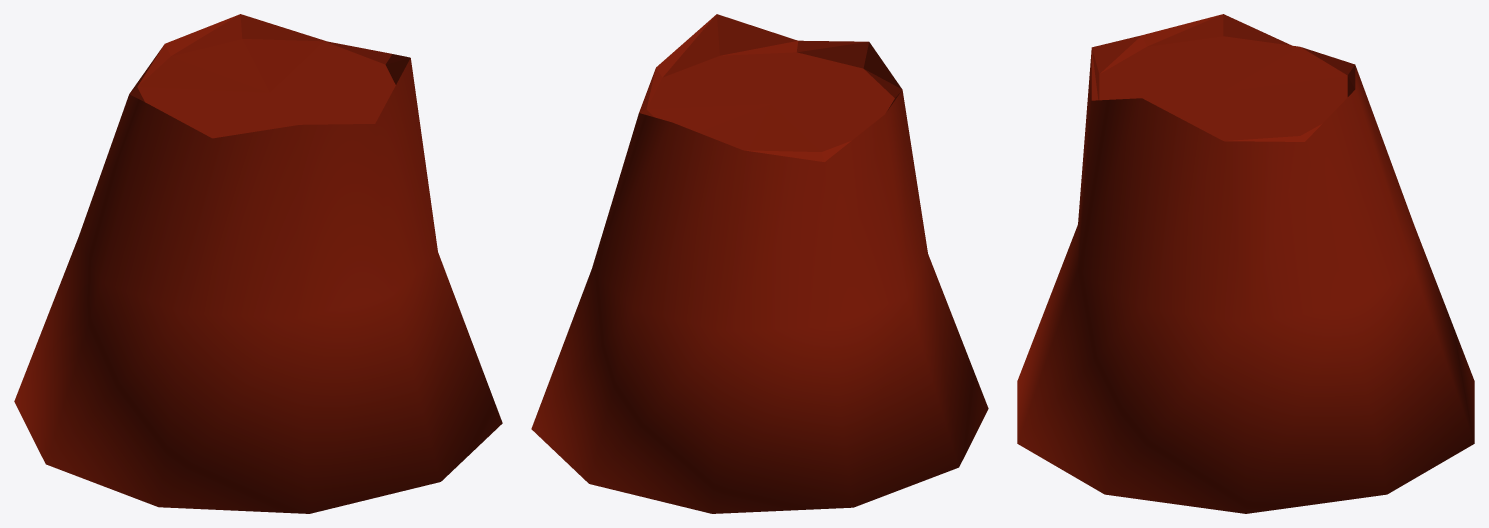
Rendered from 3D_ENV_TREETRUNK.FBX.
3 renders of one model, left to right at view 1: azimuth 30°, elevation 25°; view 2: azimuth 150°, elevation 25°; view 3: azimuth 270°, elevation 25°, orthographic. The views are drawn at different scales.
Parts seen in each view (by area): view 1: Tree1; view 2: Tree1; view 3: Tree1.
Boxes of the visible parts, x1,y1,x2,y2 form: Tree1: (14, 14, 502, 513); Tree1: (531, 14, 988, 513); Tree1: (1017, 14, 1474, 513).
Bounding box in the file's own units: 63.01 × 52.29 × 59.92.
